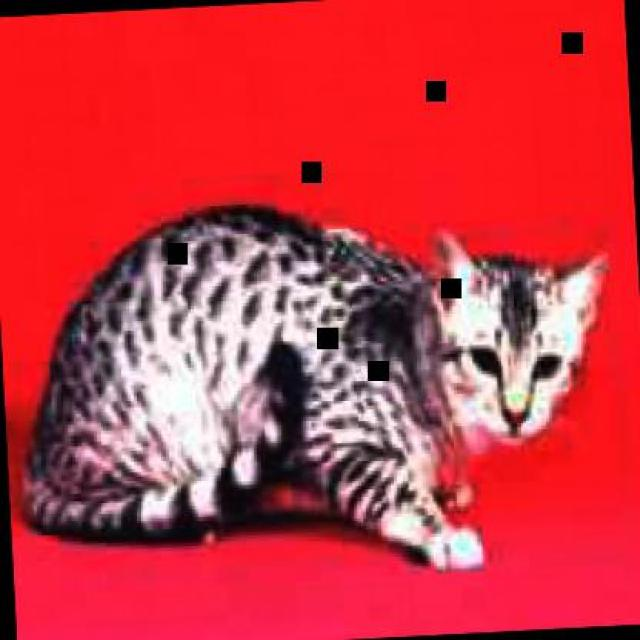cat: (6, 181, 622, 594)
